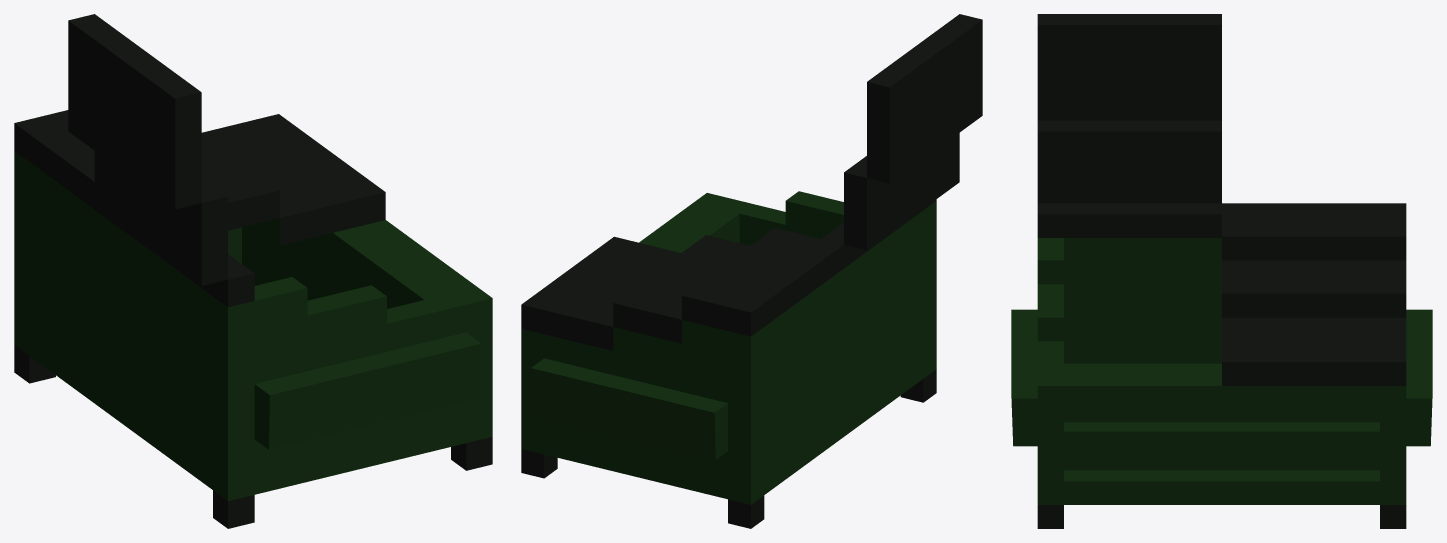
The model's file is Bin_Mesh_002.fbx.
3 renders of one model, left to right at view 1: azimuth 30°, elevation 25°; view 2: azimuth 150°, elevation 25°; view 3: azimuth 270°, elevation 25°, orthographic. The views are drawn at different scales.
Visible parts, largest first — view 1: Bin_002; view 2: Bin_002; view 3: Bin_002.
Part boxes in pixels (<box>): Bin_002: <box>14,14,492,528</box>; Bin_002: <box>521,14,982,528</box>; Bin_002: <box>1011,14,1432,528</box>.
Size of the model in its own units: 1.2 by 1.6 by 1.6.
